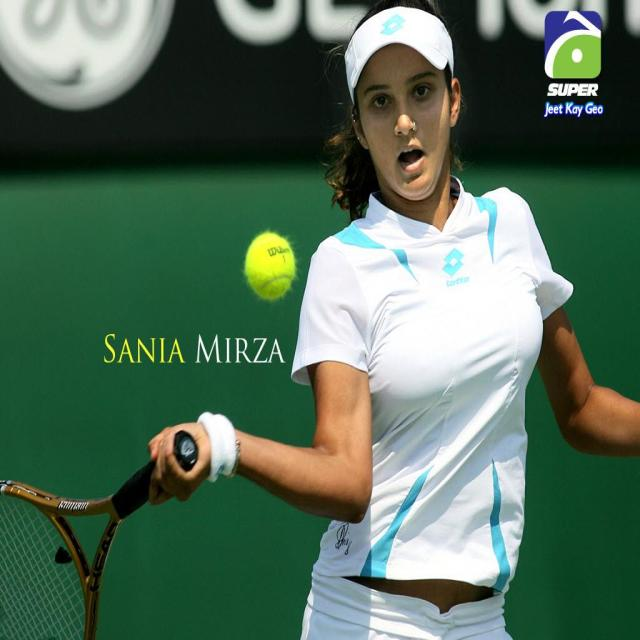Face: (358, 28, 461, 212)
